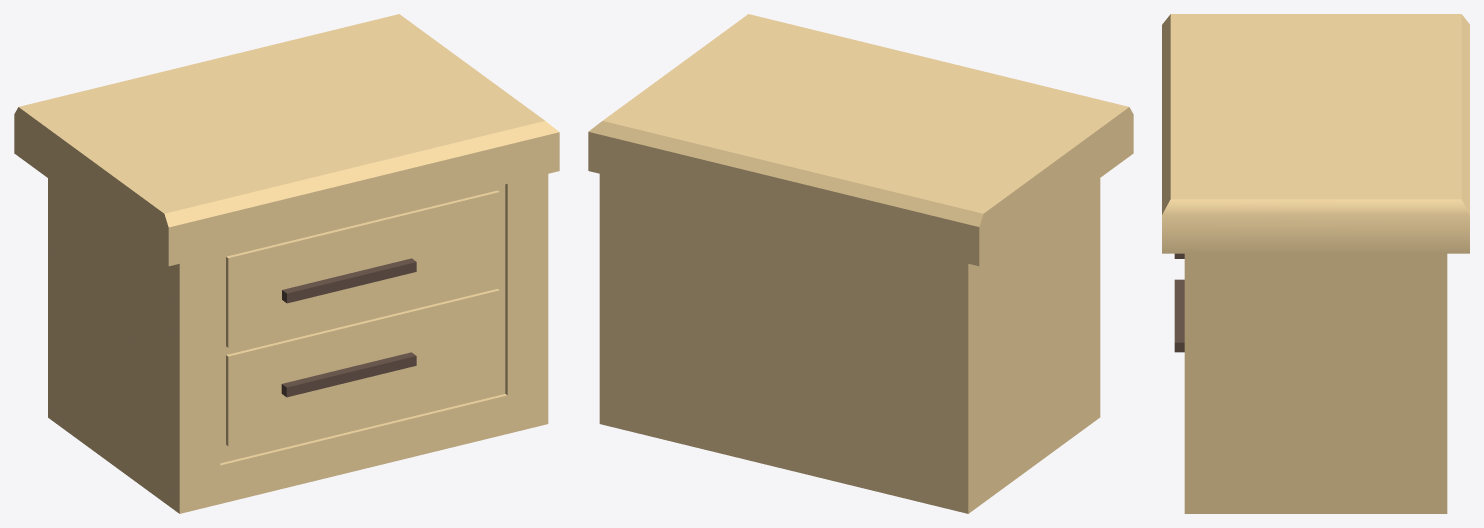
The model's file is Cocina_Meceta_08.fbx.
3 views of the same model, side by side, from view 1: azimuth 30°, elevation 25°; view 2: azimuth 150°, elevation 25°; view 3: azimuth 270°, elevation 25° (orthographic).
Parts seen in each view (by area): view 1: kitchen sink.001; view 2: kitchen sink.001; view 3: kitchen sink.001.
Boxes of the visible parts, x1,y1,x2,y2 form: kitchen sink.001: [14, 14, 559, 513]; kitchen sink.001: [588, 14, 1133, 513]; kitchen sink.001: [1162, 14, 1469, 513].
Size of the model in its own units: 102 by 77.48 by 69.74.
Materials: 2 (2 with a texture image).
